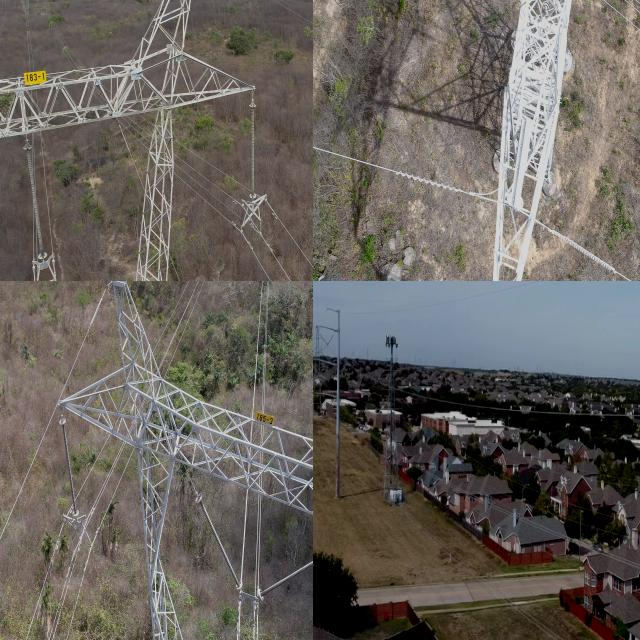杆塔: (59, 281, 313, 640), (0, 0, 283, 281), (488, 0, 585, 281), (379, 328, 405, 506), (313, 321, 327, 416)
正常绝缘子: (192, 492, 246, 599), (21, 142, 53, 272), (242, 90, 266, 216), (57, 412, 84, 523), (256, 553, 313, 605)
